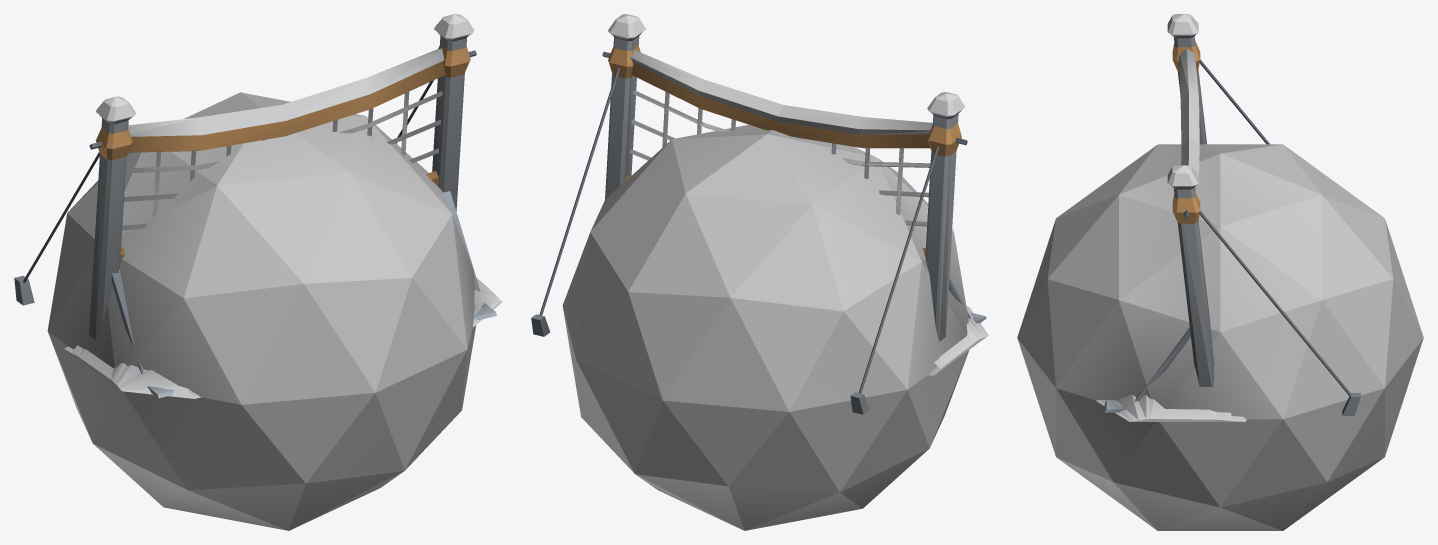
File: net.glb
3 views of the same model, side by side, from view 1: azimuth 30°, elevation 25°; view 2: azimuth 150°, elevation 25°; view 3: azimuth 270°, elevation 25° (orthographic). The views are drawn at different scales.
Parts seen in each view (by area): view 1: net; view 2: net; view 3: net.
Boxes of the visible parts, left/top/right/bottom form: net: left=14, top=14, right=502, bottom=530; net: left=531, top=14, right=988, bottom=530; net: left=1017, top=14, right=1423, bottom=530.
Size of the model in its own units: 2 by 2.35 by 2.
